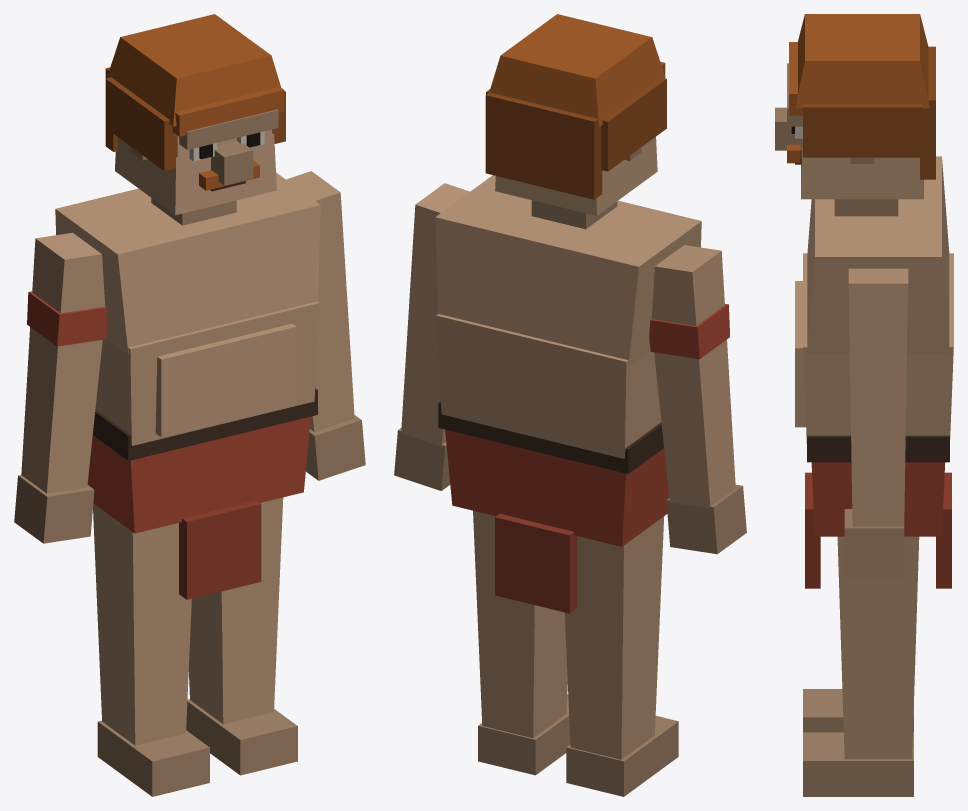
The model's file is fighter_A4.glb.
The picture shows the model from 3 angles, left to right: view 1: azimuth 30°, elevation 25°; view 2: azimuth 150°, elevation 25°; view 3: azimuth 270°, elevation 25°; orthographic projection.
Visible parts, largest first — view 1: torso, head, hips, leg_R, arm_R, leg_L, arm_L; view 2: torso, head, hips, leg_R, arm_R, leg_L, arm_L; view 3: head, torso, leg_L, arm_L, hips, leg_R.
Part boxes in pixels (bbox=[...]): torso: bbox=[55, 172, 320, 445]; head: bbox=[105, 14, 285, 225]; hips: bbox=[87, 388, 317, 599]; leg_R: bbox=[93, 503, 209, 796]; arm_R: bbox=[14, 232, 107, 543]; leg_L: bbox=[186, 497, 297, 775]; arm_L: bbox=[286, 171, 365, 480]; torso: bbox=[435, 175, 701, 458]; head: bbox=[485, 14, 666, 229]; hips: bbox=[438, 401, 669, 613]; leg_R: bbox=[564, 516, 678, 796]; arm_R: bbox=[649, 245, 746, 554]; leg_L: bbox=[473, 510, 570, 775]; arm_L: bbox=[394, 183, 469, 490]; head: bbox=[775, 14, 935, 216]; torso: bbox=[795, 156, 953, 443]; leg_L: bbox=[803, 536, 919, 796]; arm_L: bbox=[844, 268, 908, 576]; hips: bbox=[805, 435, 951, 588]; leg_R: bbox=[803, 689, 913, 732].
Bounding box in the file's own units: 0.9528 × 2.01 × 0.45.
